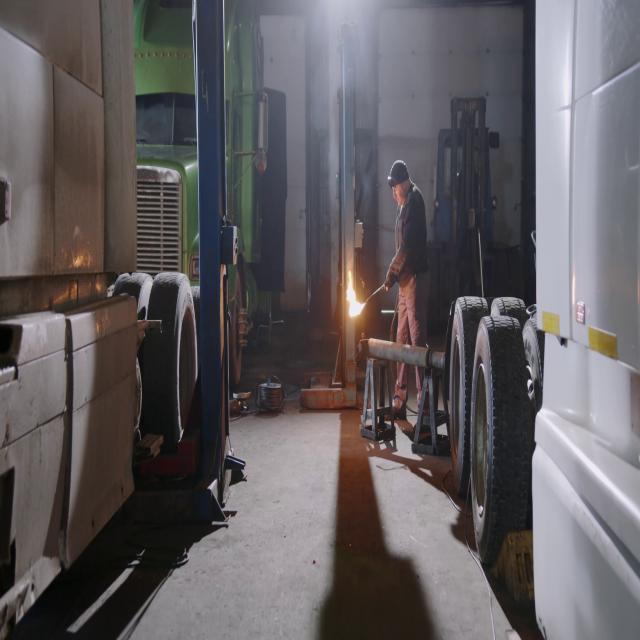Fire: (343, 264, 366, 320)
